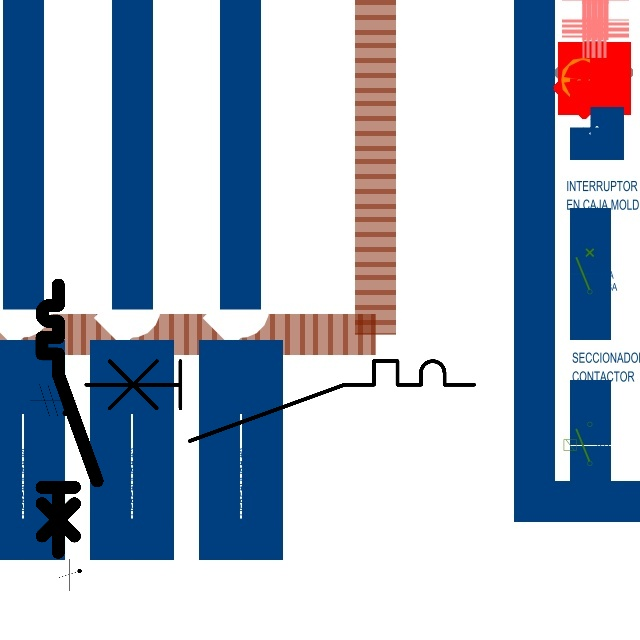interruptor_termomagnetico: (76, 351, 484, 451), (35, 278, 104, 559)
